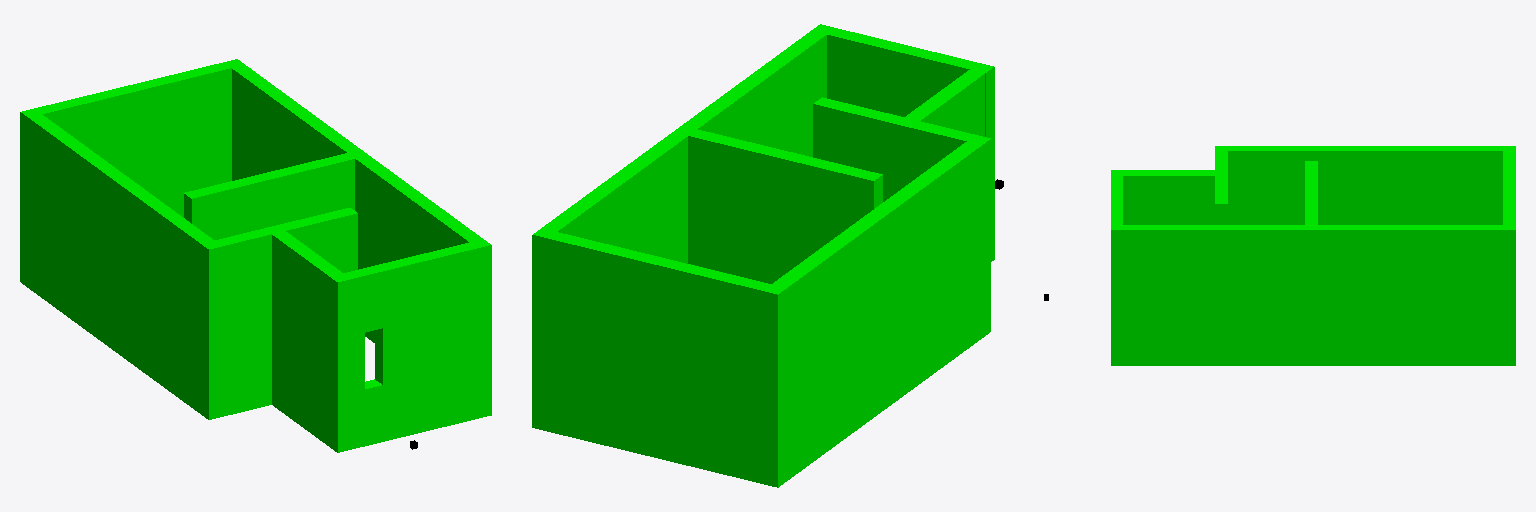
The robot description file, URDF, robot "folding_drone_obstacle1":
<robot name="folding_drone_obstacle1">
  <link name="base_link">
    <inertial>
      <origin xyz="0 0 0" rpy="0 0 0"/>
      <mass value="99999999999.9"/>
      <inertia ixx="0.083" ixy="0.0" ixz="0.0" iyy="0.083" iyz="0.0" izz="0.083"/>
    </inertial>
    <visual>
      <origin xyz="0 0 0" rpy="0 0 0"/>
      <geometry>
        <box size="0.1 0.1 0.1"/>
      </geometry>
      <material name="invisible">
        <color rgba="0 0 0 0"/>
      </material>
    </visual>
  </link>

  <link name="link1">
    <inertial>
      <origin xyz="1.165 1.4 10.0" rpy="0 0 0"/>
      <mass value="99999999999.9"/>
      <inertia ixx="0.083" ixy="0.0" ixz="0.0" iyy="0.083" iyz="0.0" izz="0.083"/>
    </inertial>
    <collision>
      <origin xyz="1.165 1.4 1.0" rpy="0 0 0"/>
      <geometry>
        <box size="2.0 0.254 3"/>
      </geometry>
    </collision>
    <visual>
      <origin xyz="1.165 1.4 1.0" rpy="0 0 0"/>
      <geometry>
        <box size="2.0 0.254 3"/>
      </geometry>
      <material name="green">
        <color rgba="0 1 0 1.0"/>
      </material>
    </visual>
  </link>

  <joint name="joint1" type="fixed">
    <parent link="base_link"/>
    <child link="link1"/>
    <origin xyz="0 0 0" rpy="0 0 0"/>
  </joint>

  <link name="link2">
    <inertial>
      <origin xyz="-0.417 1.4 1.0" rpy="0 0 0"/>
      <mass value="99999999999.9"/>
      <inertia ixx="0.083" ixy="0.0" ixz="0.0" iyy="0.083" iyz="0.0" izz="0.083"/>
    </inertial>
    <collision>
      <origin xyz="-0.417 1.4 1.0" rpy="0 0 0"/>
      <geometry>
        <box size="0.504 0.254 3"/>
      </geometry>
    </collision>
    <visual>
      <origin xyz="-0.417 1.4 1.0" rpy="0 0 0"/>
      <geometry>
        <box size="0.504 0.254 3"/>
      </geometry>
      <material name="green">
        <color rgba="0 1 0 1.0"/>
      </material>
    </visual>
  </link>

  <joint name="joint2" type="fixed">
    <parent link="base_link"/>
    <child link="link2"/>
    <origin xyz="0 0 0" rpy="0 0 0"/>
  </joint>

  <link name="link2cb">
    <inertial>
      <origin xyz="0.0 1.4 0.0" rpy="0 0 0"/>
      <mass value="99999999999.9"/>
      <inertia ixx="0.083" ixy="0.0" ixz="0.0" iyy="0.083" iyz="0.0" izz="0.083"/>
    </inertial>
    <collision>
      <origin xyz="0.0 1.4 0.0" rpy="0 0 0"/>
      <geometry>
        <box size="0.33 0.254 1"/>
      </geometry>
    </collision>
    <visual>
      <origin xyz="0.0 1.4 0.0" rpy="0 0 0"/>
      <geometry>
        <box size="0.33 0.254 1"/>
      </geometry>
      <material name="green">
        <color rgba="0 1 0 1.0"/>
      </material>
    </visual>
  </link>

  <joint name="joint2cb" type="fixed">
    <parent link="base_link"/>
    <child link="link2cb"/>
    <origin xyz="0 0 0" rpy="0 0 0"/>
  </joint>

  <link name="link2ct">
    <inertial>
      <origin xyz="0.0 1.4 2.0" rpy="0 0 0"/>
      <mass value="99999999999.9"/>
      <inertia ixx="0.083" ixy="0.0" ixz="0.0" iyy="0.083" iyz="0.0" izz="0.083"/>
    </inertial>
    <collision>
      <origin xyz="0.0 1.4 2.0" rpy="0 0 0"/>
      <geometry>
        <box size="0.33 0.254 1"/>
      </geometry>
    </collision>
    <visual>
      <origin xyz="0.0 1.4 2.0" rpy="0 0 0"/>
      <geometry>
        <box size="0.33 0.254 1"/>
      </geometry>
      <material name="green">
        <color rgba="0 1 0 1.0"/>
      </material>
    </visual>
  </link>

  <joint name="joint2ct" type="fixed">
    <parent link="base_link"/>
    <child link="link2ct"/>
    <origin xyz="0 0 0" rpy="0 0 0"/>
  </joint>

  <link name="link3">
    <inertial>
      <origin xyz="-0.452 3.497 1.0" rpy="0 0 0"/>
      <mass value="99999999999.9"/>
      <inertia ixx="0.083" ixy="0.0" ixz="0.0" iyy="0.083" iyz="0.0" izz="0.083"/>
    </inertial>
    <collision>
      <origin xyz="-0.452 3.497 1.0" rpy="0 0 0"/>
      <geometry>
        <box size="2.75 0.254 3.0"/>
      </geometry>
    </collision>
    <visual>
      <origin xyz="-0.452 3.497 1.0" rpy="0 0 0"/>
      <geometry>
        <box size="2.75 0.254 3.0"/>
      </geometry>
      <material name="green">
        <color rgba="0 1 0 1.0"/>
      </material>
    </visual>
  </link>

  <joint name="joint3" type="fixed">
    <parent link="base_link"/>
    <child link="link3"/>
    <origin xyz="0 0 0" rpy="0 0 0"/>
  </joint>

  <link name="link4">
    <inertial>
      <origin xyz="2.038 5.3215 1.0" rpy="0 0 0"/>
      <mass value="99999999999.9"/>
      <inertia ixx="0.083" ixy="0.0" ixz="0.0" iyy="0.083" iyz="0.0" izz="0.083"/>
    </inertial>
    <collision>
      <origin xyz="2.038 5.3215 1.0" rpy="0 0 0"/>
      <geometry>
        <box size="0.254 8.097 3.0"/>
      </geometry>
    </collision>
    <visual>
      <origin xyz="2.038 5.3215 1.0" rpy="0 0 0"/>
      <geometry>
        <box size="0.254 8.097 3.0"/>
      </geometry>
      <material name="green">
        <color rgba="0 1 0 1.0"/>
      </material>
    </visual>
  </link>

  <joint name="joint4" type="fixed">
    <parent link="base_link"/>
    <child link="link4"/>
    <origin xyz="0 0 0" rpy="0 0 0"/>
  </joint>

  <link name="link5">
    <inertial>
      <origin xyz="-0.54 2.450 1.0" rpy="0 0 0"/>
      <mass value="99999999999.9"/>
      <inertia ixx="0.083" ixy="0.0" ixz="0.0" iyy="0.083" iyz="0.0" izz="0.083"/>
    </inertial>
    <collision>
      <origin xyz="-0.54 2.450 1.0" rpy="0 0 0"/>
      <geometry>
        <box size="0.254 2.354 3.0"/>
      </geometry>
    </collision>
    <visual>
      <origin xyz="-0.54 2.450 1.0" rpy="0 0 0"/>
      <geometry>
        <box size="0.254 2.354 3.0"/>
      </geometry>
      <material name="green">
        <color rgba="0 1 0 1.0"/>
      </material>
    </visual>
  </link>

  <joint name="joint5" type="fixed">
    <parent link="base_link"/>
    <child link="link5"/>
    <origin xyz="0 0 0" rpy="0 0 0"/>
  </joint>

  <link name="link6">
    <inertial>
      <origin xyz="0.53 5.297 1.0" rpy="0 0 0"/>
      <mass value="99999999999.9"/>
      <inertia ixx="0.083" ixy="0.0" ixz="0.0" iyy="0.083" iyz="0.0" izz="0.083"/>
    </inertial>
    <collision>
      <origin xyz="0.53 5.297 1.0" rpy="0 0 0"/>
      <geometry>
        <box size="3.270 0.254 3.0"/>
      </geometry>
    </collision>
    <visual>
      <origin xyz="0.53 5.297 1.0" rpy="0 0 0"/>
      <geometry>
        <box size="3.270 0.254 3.0"/>
      </geometry>
      <material name="green">
        <color rgba="0 1 0 1.0"/>
      </material>
    </visual>
  </link>

  <joint name="joint6" type="fixed">
    <parent link="base_link"/>
    <child link="link6"/>
    <origin xyz="0 0 0" rpy="0 0 0"/>
  </joint>

  <link name="link7">
    <inertial>
      <origin xyz="-1.7 6.37 1.0" rpy="0 0 0"/>
      <mass value="99999999999.9"/>
      <inertia ixx="0.083" ixy="0.0" ixz="0.0" iyy="0.083" iyz="0.0" izz="0.083"/>
    </inertial>
    <collision>
      <origin xyz="-1.7 6.37 1.0" rpy="0 0 0"/>
      <geometry>
        <box size="0.254 6.0 3.0"/>
      </geometry>
    </collision>
    <visual>
      <origin xyz="-1.7 6.37 1.0" rpy="0 0 0"/>
      <geometry>
        <box size="0.254 6.0 3.0"/>
      </geometry>
      <material name="green">
        <color rgba="0 1 0 1.0"/>
      </material>
    </visual>
  </link>

  <joint name="joint7" type="fixed">
    <parent link="base_link"/>
    <child link="link7"/>
    <origin xyz="0 0 0" rpy="0 0 0"/>
  </joint>

  <link name="link8">
    <inertial>
      <origin xyz="0.169 9.24454 1.0" rpy="0 0 0"/>
      <mass value="99999999999.9"/>
      <inertia ixx="0.083" ixy="0.0" ixz="0.0" iyy="0.083" iyz="0.0" izz="0.083"/>
    </inertial>
    <collision>
      <origin xyz="0.169 9.24454 1.0" rpy="0 0 0"/>
      <geometry>
        <box size="3.992 0.254 3.0"/>
      </geometry>
    </collision>
    <visual>
      <origin xyz="0.169 9.24454 1.0" rpy="0 0 0"/>
      <geometry>
        <box size="3.992 0.254 3.0"/>
      </geometry>
      <material name="green">
        <color rgba="0 1 0 1.0"/>
      </material>
    </visual>
  </link>

  <joint name="joint8" type="fixed">
    <parent link="base_link"/>
    <child link="link8"/>
    <origin xyz="0 0 0" rpy="0 0 0"/>
  </joint>
</robot>

--- Render facts (derived) ---
Views: 3 orthographic renders of the robot side by side, from view 1: azimuth 30°, elevation 25°; view 2: azimuth 150°, elevation 25°; view 3: azimuth 270°, elevation 25°.
Robot: folding_drone_obstacle1 — 11 links, 10 joints (10 fixed); root link base_link; default pose: all joints at 0.
Visible links, largest first — view 1: link7, link4, link8, link1, link3, link5, link6, link2, link2ct, link2cb; view 2: link8, link7, link6, link4, link3, link1, link5, link2, link2ct; view 3: link4, link7, link5, link1, link8, link6, link3.
Link boxes in pixels (box(x1,y1,x2,y2)): link7: box(21, 109, 222, 418); link4: box(226, 59, 491, 418); link8: box(20, 60, 238, 287); link1: box(375, 239, 488, 441); link3: box(201, 208, 357, 419); link5: box(264, 226, 350, 452); link6: box(184, 150, 366, 239); link2: box(330, 270, 364, 452); link2ct: box(358, 266, 382, 332); link2cb: box(365, 379, 382, 445); link8: box(532, 228, 786, 487); link7: box(763, 135, 990, 486); link6: box(674, 126, 882, 283); link4: box(533, 25, 833, 263); link3: box(813, 97, 990, 333); link1: box(813, 24, 942, 116); link5: box(895, 64, 993, 193); link2: box(955, 59, 994, 261); link2ct: box(934, 54, 962, 94); link4: box(1111, 225, 1514, 365); link7: box(1215, 146, 1514, 224); link5: box(1123, 170, 1227, 224); link1: box(1111, 188, 1122, 365); link8: box(1503, 146, 1515, 365); link6: box(1305, 161, 1317, 365); link3: box(1215, 146, 1227, 224).
Size in the robot's own frame: 3.99 by 9.42 by 3 metres.
Geometry: primitives only (box / cylinder / sphere), no mesh files.
